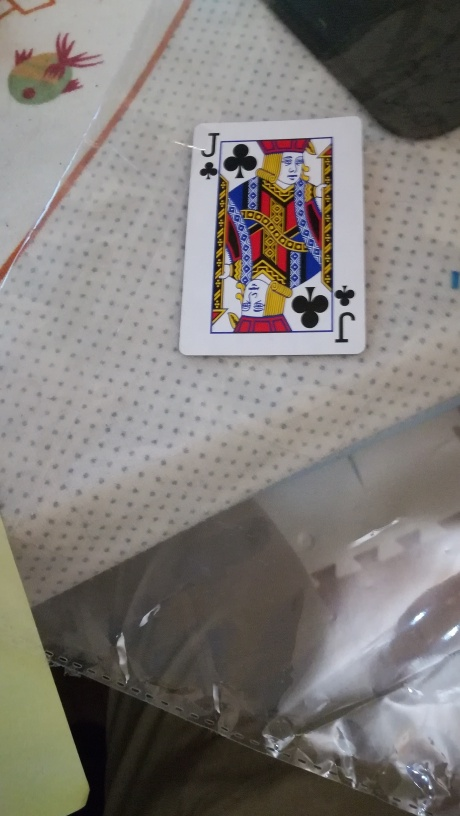mh j: (179, 117, 370, 360)
